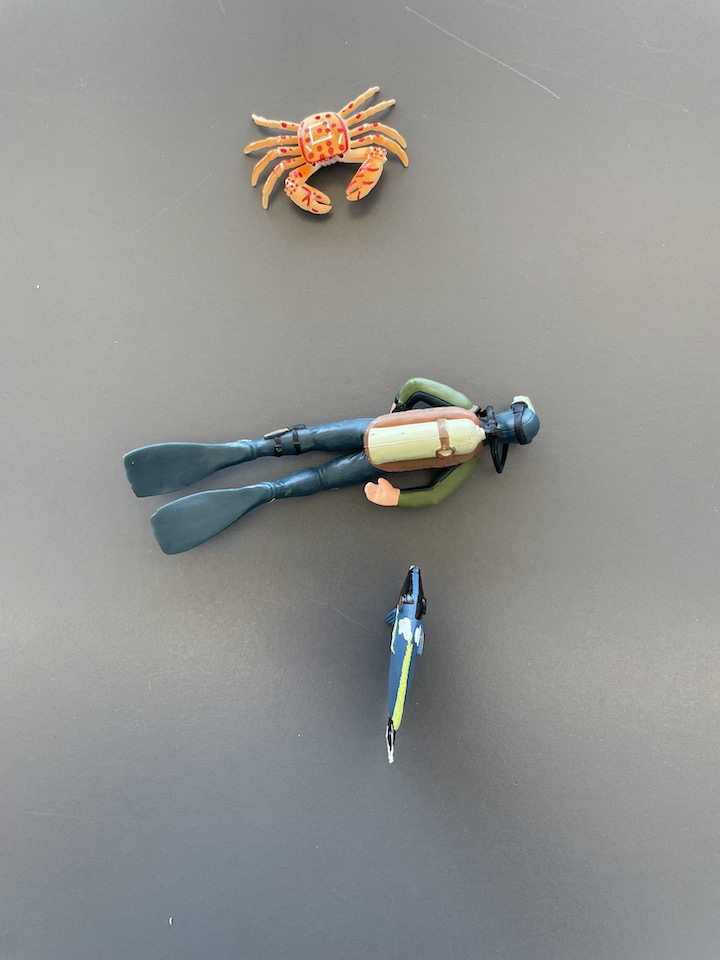crab: (241, 81, 416, 223)
diver: (117, 373, 548, 562)
fish: (373, 555, 426, 766)
